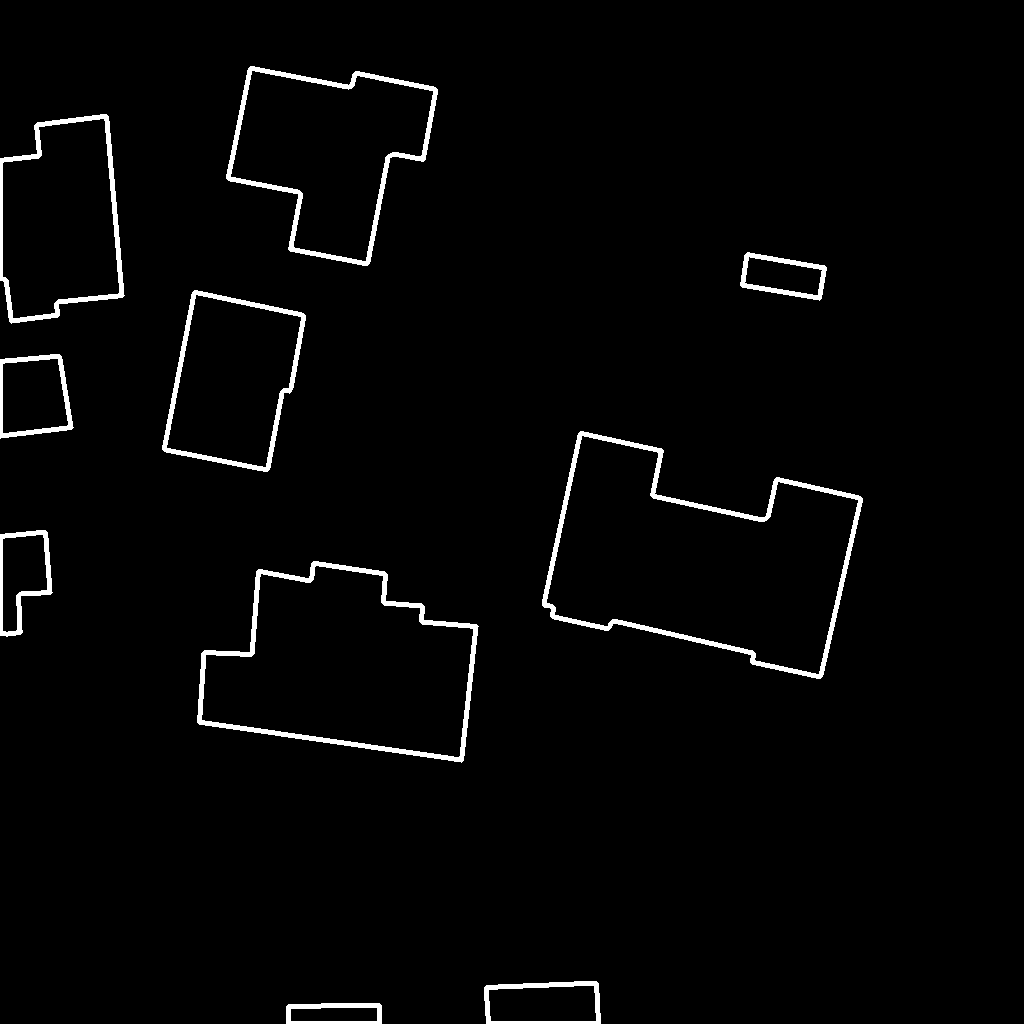building: (544, 433, 862, 678), (199, 563, 477, 761), (228, 68, 437, 265), (0, 116, 123, 322), (164, 292, 305, 471), (0, 356, 72, 437), (0, 532, 51, 635), (486, 983, 600, 1024), (742, 254, 826, 299), (288, 1005, 381, 1024)
